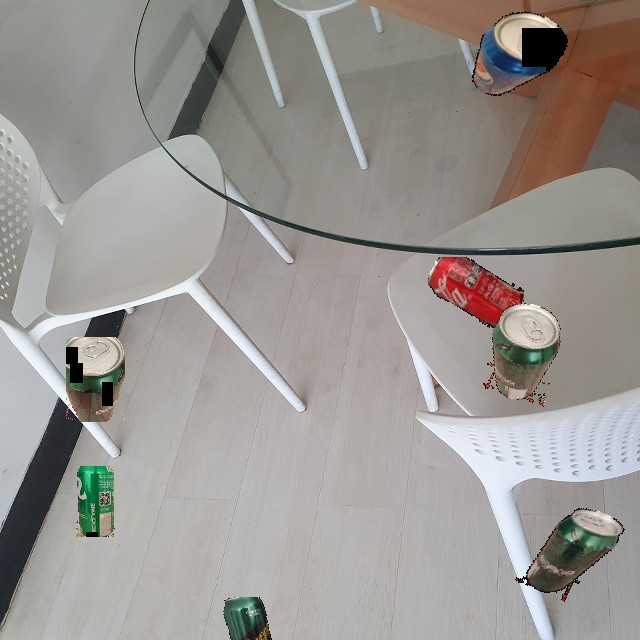coca cola: (428, 257, 524, 338)
pepsi: (453, 3, 571, 113)
schweppes: (512, 489, 631, 615), (478, 297, 568, 407), (66, 337, 125, 422), (222, 597, 280, 640)
sprite: (76, 466, 115, 537)
